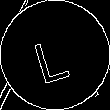L_N: (33, 26, 77, 84)
